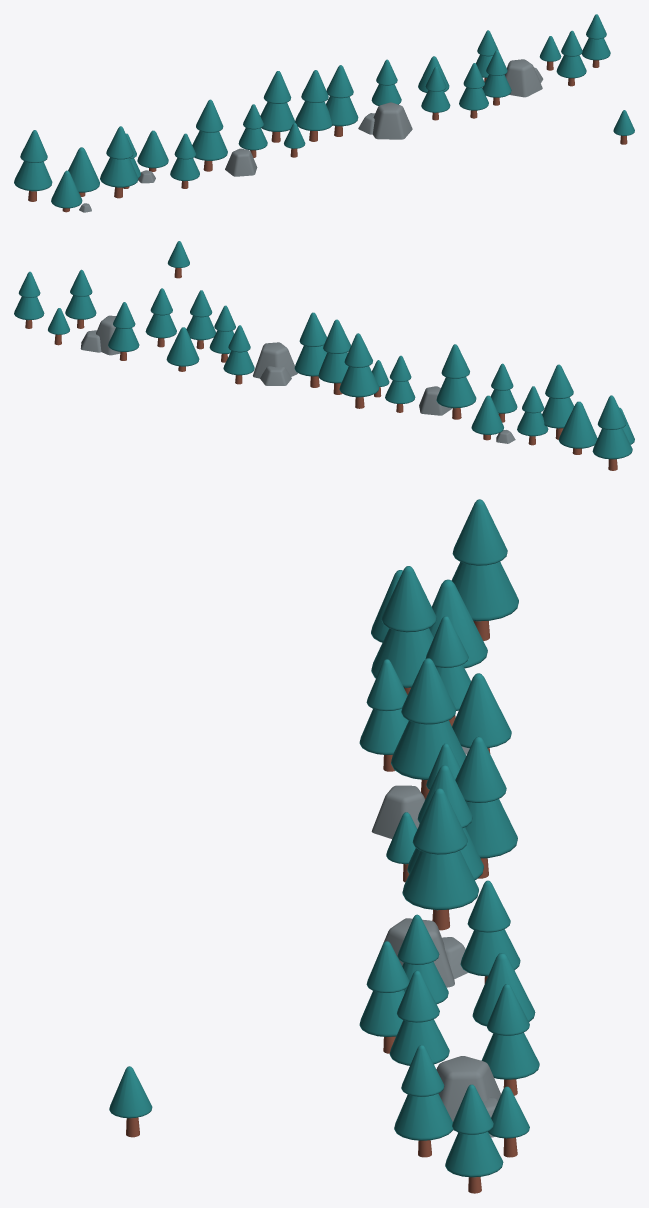
The model's file is Objetos.fbx.
3 renders of one model, top to bottom at view 1: azimuth 30°, elevation 25°; view 2: azimuth 150°, elevation 25°; view 3: azimuth 270°, elevation 25°, orthographic. The views are drawn at different scales.
Parts seen in each view (by area): view 1: polySurface79, polySurface61, polySurface55, polySurface60, polySurface102, polySurface82, polySurface73, polySurface105, polySurface25, polySurface86, polySurface63, polySurface118 (+27 smaller); view 2: polySurface55, polySurface105, polySurface73, polySurface60, polySurface79, polySurface25, polySurface32, polySurface102, polySurface63, polySurface82, polySurface104, polySurface33 (+30 smaller); view 3: polySurface63, polySurface60, polySurface73, polySurface25, polySurface61, polySurface58, polySurface54, polySurface33, polySurface101, polySurface105, polySurface102, polySurface104 (+24 smaller).
Boxes of the visible parts, left/top/right/bottom form: polySurface79: left=372, top=102, right=412, bottom=139; polySurface61: left=504, top=59, right=542, bottom=97; polySurface55: left=68, top=147, right=99, bottom=192; polySurface60: left=14, top=161, right=52, bottom=191; polySurface102: left=100, top=157, right=138, bottom=187; polySurface82: left=295, top=101, right=332, bottom=130; polySurface73: left=192, top=131, right=227, bottom=160; polySurface105: left=260, top=102, right=295, bottom=131; polySurface25: left=137, top=130, right=168, bottom=168; polySurface86: left=51, top=170, right=82, bottom=208; polySurface63: left=326, top=96, right=358, bottom=126; polySurface118: left=225, top=148, right=257, bottom=176; polySurface55: left=558, top=401, right=597, bottom=448; polySurface105: left=339, top=366, right=379, bottom=397; polySurface73: left=436, top=377, right=476, bottom=408; polySurface60: left=592, top=428, right=632, bottom=459; polySurface79: left=253, top=342, right=297, bottom=378; polySurface25: left=471, top=395, right=503, bottom=434; polySurface32: left=166, top=327, right=199, bottom=366; polySurface102: left=542, top=397, right=574, bottom=428; polySurface63: left=294, top=345, right=327, bottom=376; polySurface82: left=318, top=352, right=348, bottom=383; polySurface104: left=344, top=333, right=372, bottom=367; polySurface33: left=441, top=344, right=469, bottom=378; polySurface63: left=402, top=850, right=478, bottom=910; polySurface60: left=451, top=561, right=518, bottom=621; polySurface73: left=391, top=720, right=465, bottom=779; polySurface25: left=452, top=673, right=511, bottom=748; polySurface61: left=436, top=1056, right=500, bottom=1121; polySurface58: left=412, top=788, right=467, bottom=854; polySurface54: left=452, top=499, right=507, bottom=565; polySurface33: left=401, top=658, right=456, bottom=724; polySurface101: left=381, top=566, right=436, bottom=632; polySurface105: left=465, top=799, right=517, bottom=858; polySurface102: left=371, top=628, right=433, bottom=687; polySurface104: left=455, top=736, right=506, bottom=802.
Bounding box in the file's own units: 43.9 × 5.13 × 13.86.
